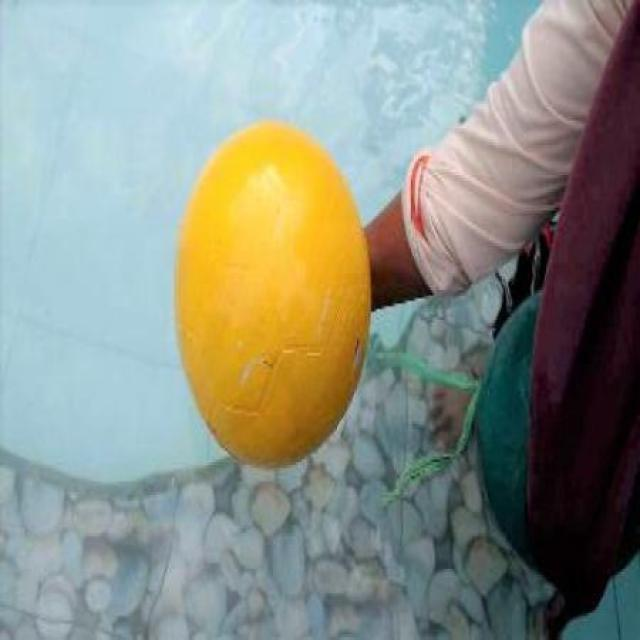buoy: (173, 120, 369, 467)
